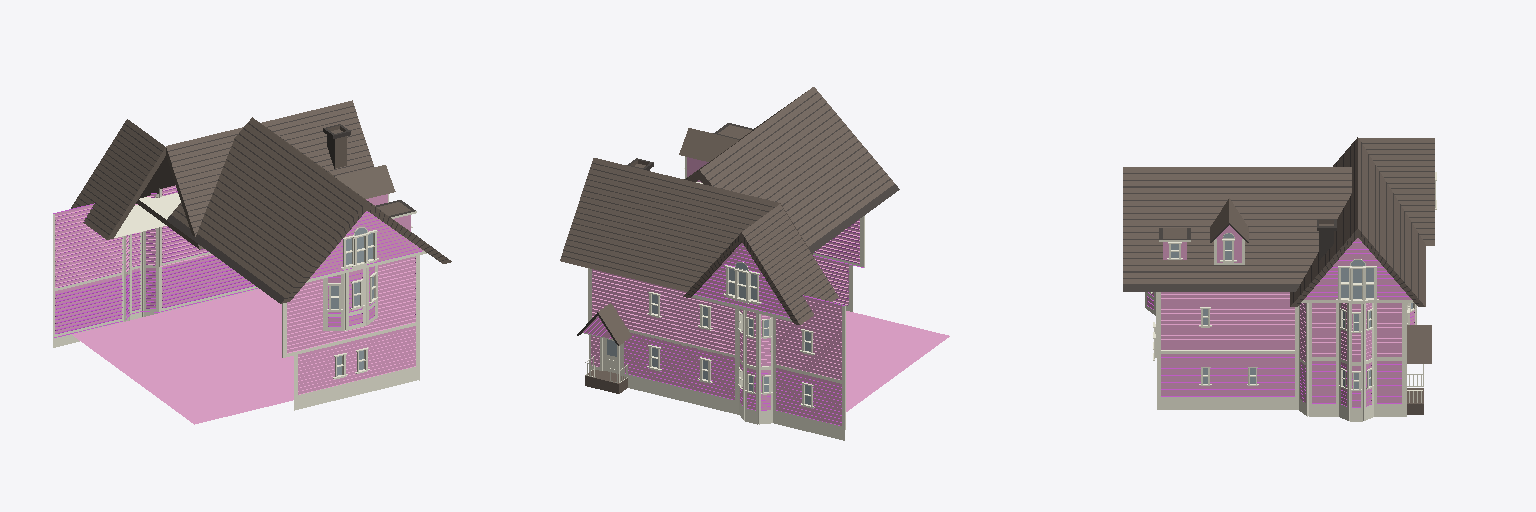
The picture shows the model from 3 angles: view 1: azimuth 30°, elevation 25°; view 2: azimuth 150°, elevation 25°; view 3: azimuth 270°, elevation 25°; orthographic projection.
Parts seen in each view (by area): view 1: Plane.131, Plane.195, Plane.033, Plane.041, Plane.117_Plane.204, Plane.034, Plane.163, Plane.084_Plane.081, Plane.025, Plane.162, Plane.129, Plane.023 (+3 smaller); view 2: Plane.033, Plane.131, Plane.041, Plane.023, Plane.034, Plane.084_Plane.081, Plane.195, Plane.025, Plane.024, Plane.163, Plane.158, Plane.117_Plane.204 (+2 smaller); view 3: Plane.131, Plane.092_Plane.086, Plane.033, Plane.034, Plane.008, Plane.014, Plane.016, Plane.087_Plane.083, Plane.090_Plane.084, Plane.158, Plane.066_Plane.064, Plane.154 (+2 smaller).
Part boxes in pixels (x1,y1,x2,y2): Plane.131: (166, 117, 451, 303); Plane.195: (72, 289, 293, 424); Plane.033: (136, 100, 373, 249); Plane.041: (53, 203, 123, 347); Plane.117_Plane.204: (294, 325, 418, 410); Plane.034: (71, 119, 166, 239); Plane.163: (282, 255, 419, 357); Plane.084_Plane.081: (159, 254, 258, 312); Plane.025: (124, 193, 158, 321); Plane.162: (306, 211, 426, 282); Plane.129: (323, 266, 377, 330); Plane.023: (159, 185, 211, 266); Plane.033: (560, 158, 813, 291); Plane.131: (684, 87, 899, 253); Plane.041: (773, 295, 845, 440); Plane.023: (588, 268, 738, 358); Plane.034: (683, 204, 838, 324); Plane.084_Plane.081: (620, 333, 738, 414); Plane.195: (846, 311, 949, 411); Plane.025: (739, 309, 772, 424); Plane.024: (692, 243, 791, 321); Plane.163: (813, 216, 864, 267); Plane.158: (679, 128, 738, 161); Plane.117_Plane.204: (814, 256, 852, 311); Plane.131: (1123, 167, 1351, 291); Plane.092_Plane.086: (1157, 292, 1298, 409); Plane.033: (1290, 137, 1425, 306); Plane.034: (1359, 138, 1434, 245); Plane.008: (1374, 303, 1404, 416); Plane.014: (1309, 303, 1338, 416); Plane.016: (1339, 303, 1373, 421); Plane.087_Plane.083: (1301, 238, 1413, 302); Plane.090_Plane.084: (1299, 303, 1308, 416); Plane.158: (1210, 198, 1248, 242); Plane.066_Plane.064: (1407, 325, 1431, 363); Plane.154: (1159, 228, 1190, 259).
Bounding box in the file's own units: 5.66 × 4.03 × 5.47.
9 materials, 7 textured.